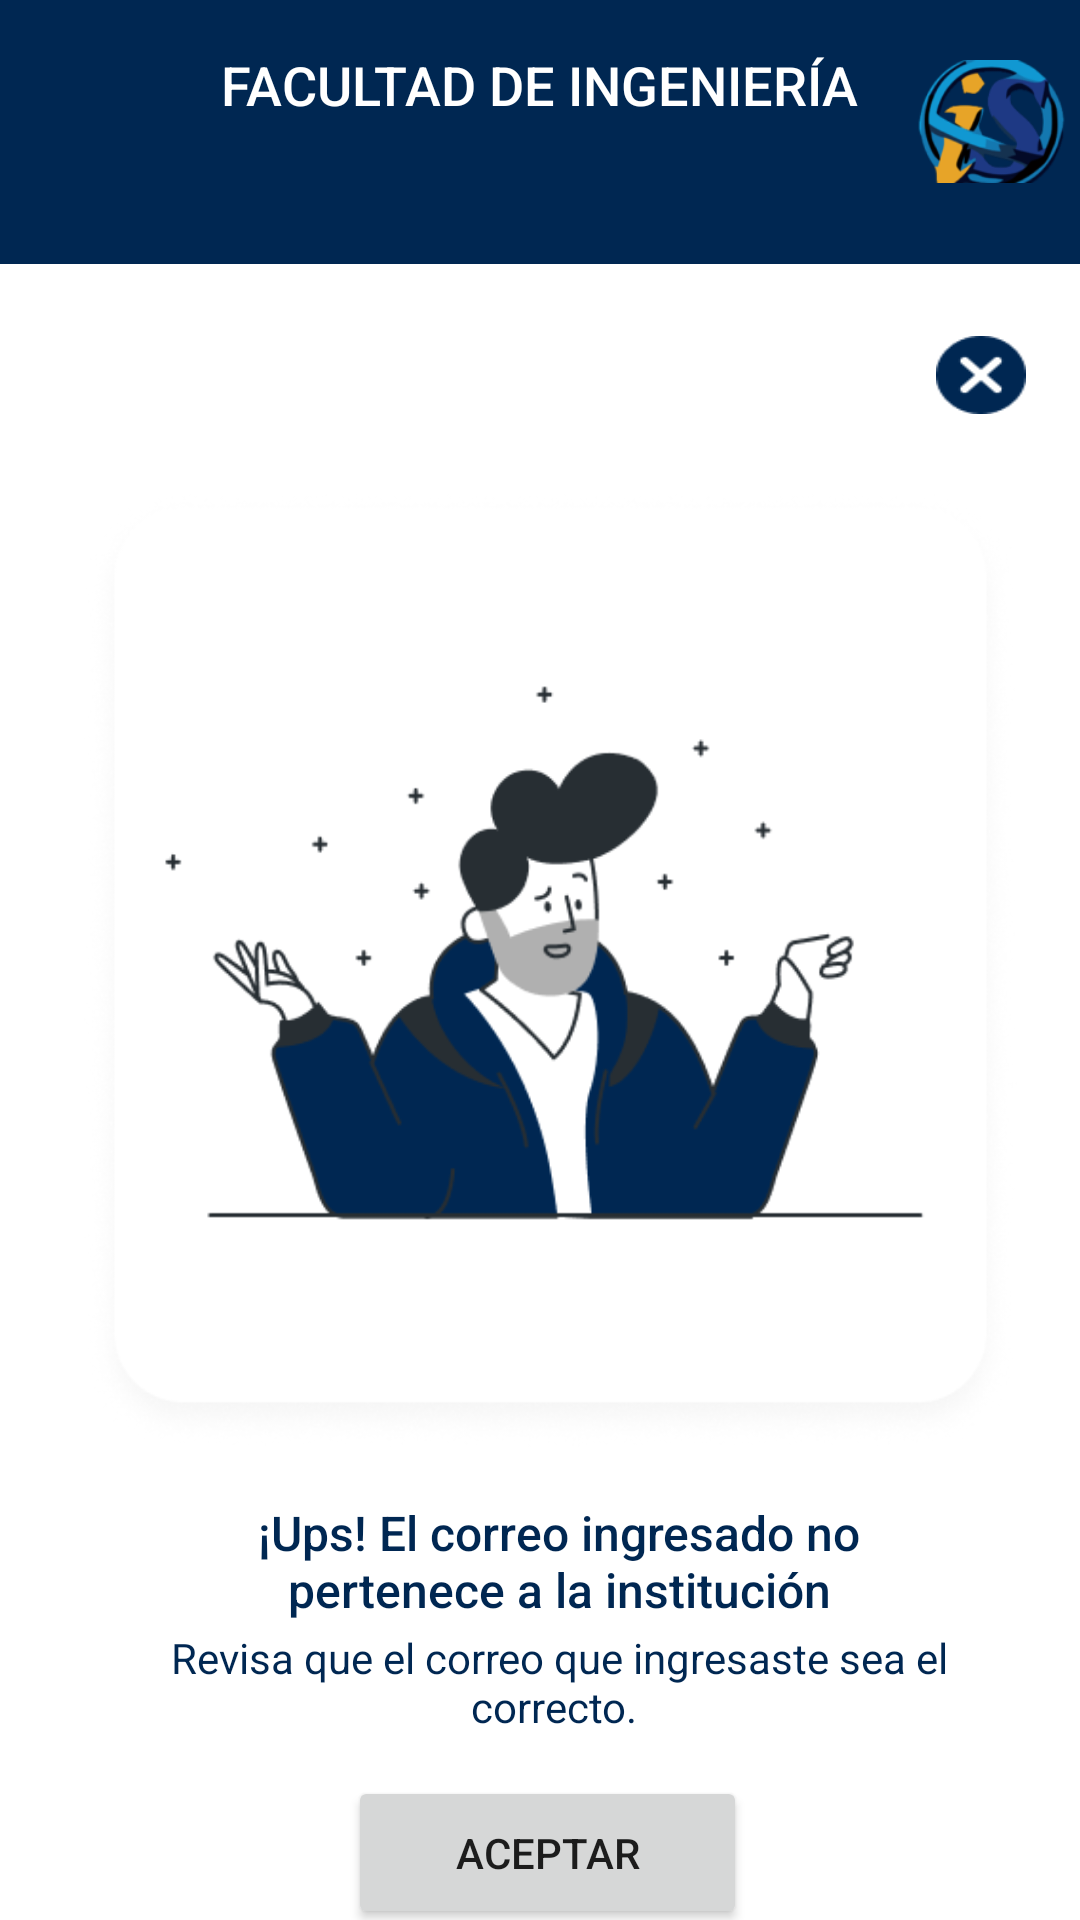

Icon click points for this 1080 × 1920 phone screenshot, format (x,y):
cerrar: (981,375)
